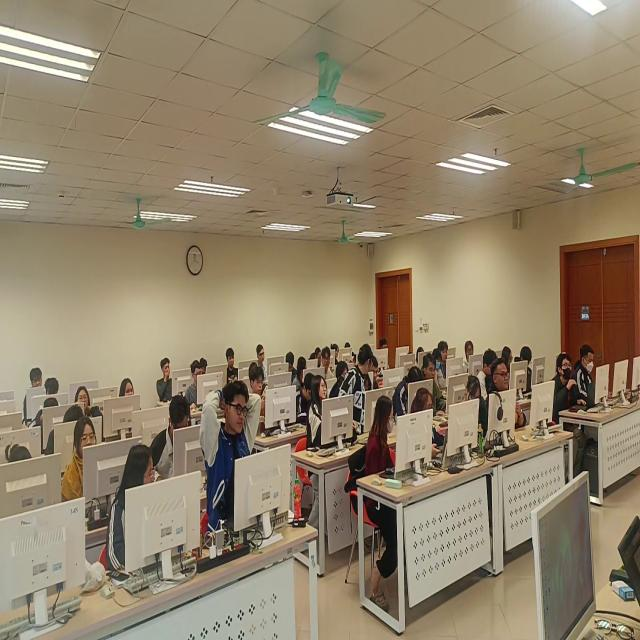raise_hand: (200, 377, 267, 549), (62, 381, 106, 433)
raise_head: (486, 355, 535, 437), (548, 351, 577, 423), (307, 375, 334, 452), (22, 362, 48, 427), (460, 334, 481, 380), (119, 372, 138, 420), (318, 348, 336, 385)
stand: (337, 340, 374, 438)
using_computer: (58, 414, 106, 530), (147, 393, 195, 489), (406, 384, 455, 466), (3, 436, 41, 507), (573, 343, 605, 416), (391, 366, 425, 424), (455, 377, 483, 447), (419, 351, 448, 416), (36, 394, 62, 456), (156, 354, 177, 406), (477, 348, 497, 401), (518, 343, 540, 391), (439, 340, 463, 381), (188, 358, 204, 410), (254, 341, 273, 379), (224, 344, 242, 382), (43, 370, 64, 402), (377, 336, 396, 370), (502, 344, 517, 384), (432, 341, 445, 381), (285, 347, 298, 385), (197, 348, 211, 380), (308, 342, 323, 371), (331, 342, 343, 363), (344, 335, 352, 355)
using_phone: (246, 364, 271, 440)
